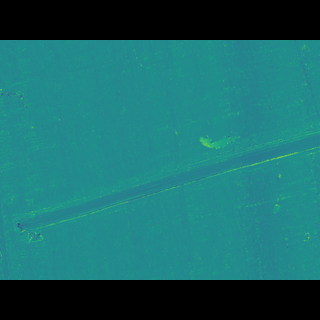Loch: (13, 130, 319, 225)
